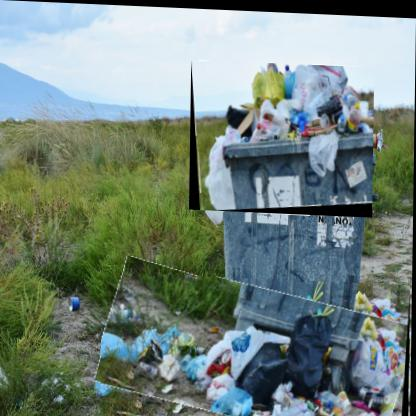Garbage: (102, 271, 413, 416), (191, 59, 376, 216)
